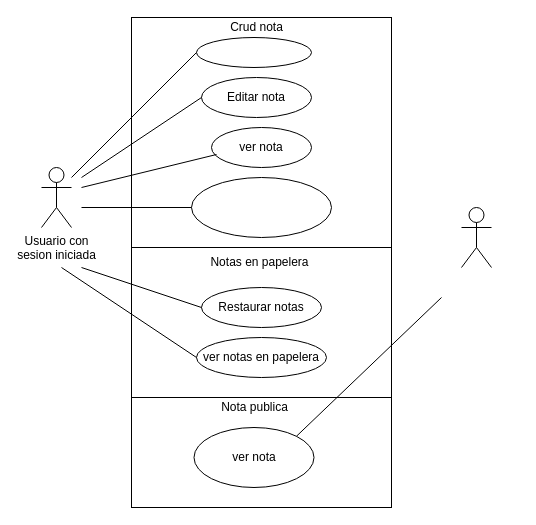
This 536x525 diagram has some shape labels left out. Here are the shapes that lost their labels. From the top down, the box of each, then its label:
(196, 36, 312, 68): Crear Nota
(190, 176, 332, 238): Mandar nota a papelera de reciclaje
(460, 206, 492, 268): Usuario externo
